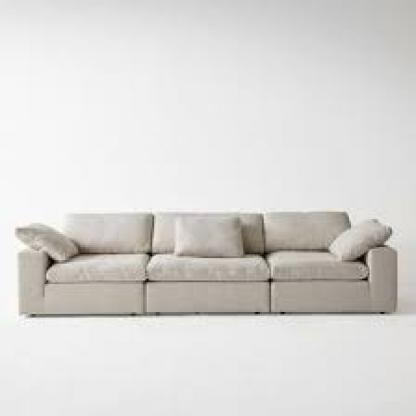sofa: (19, 206, 399, 318)
